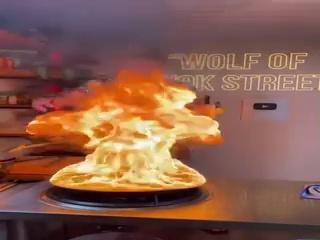Fire: (32, 60, 210, 194)
